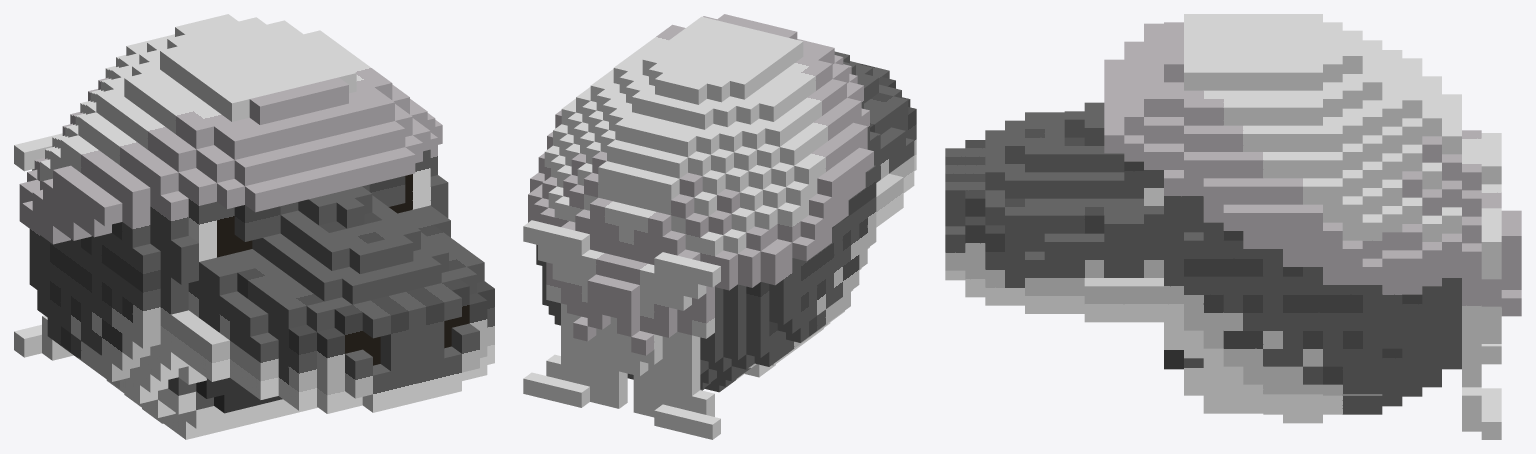
File: black durag.gltf
3 views of the same model, side by side, from view 1: azimuth 30°, elevation 25°; view 2: azimuth 150°, elevation 25°; view 3: azimuth 270°, elevation 25° (orthographic). The views are drawn at different scales.
Visible parts, largest first — view 1: 01_Zilla_Head_Durag-Mesh; view 2: 01_Zilla_Head_Durag-Mesh; view 3: 01_Zilla_Head_Durag-Mesh.
Part boxes in pixels (box(x1,y1,x2,y2)): 01_Zilla_Head_Durag-Mesh: box(14, 14, 494, 439); 01_Zilla_Head_Durag-Mesh: box(523, 14, 916, 439); 01_Zilla_Head_Durag-Mesh: box(945, 14, 1521, 439).
Size of the model in its own units: 19 by 19 by 29.
Materials: 1 (1 with a texture image).
